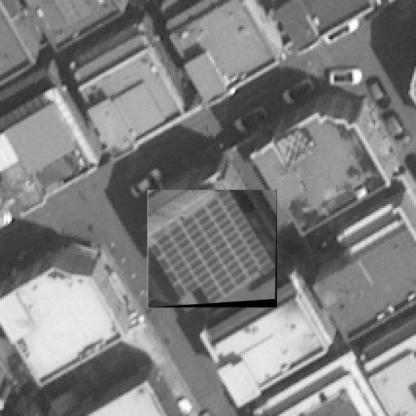solar-pv-panel: (148, 190, 276, 304)
